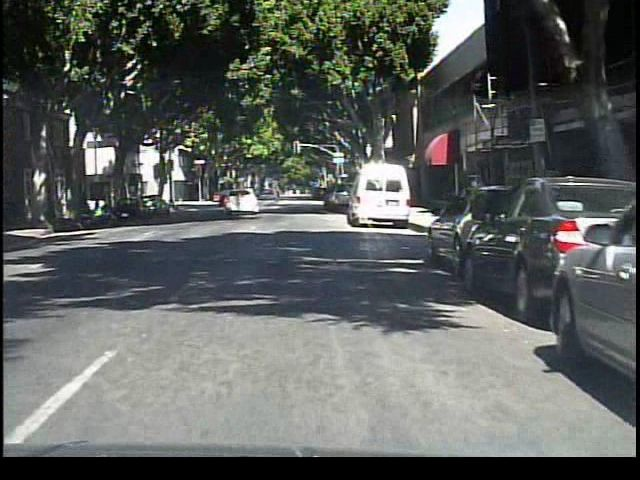person: (461, 167, 490, 227), (266, 176, 287, 209)
